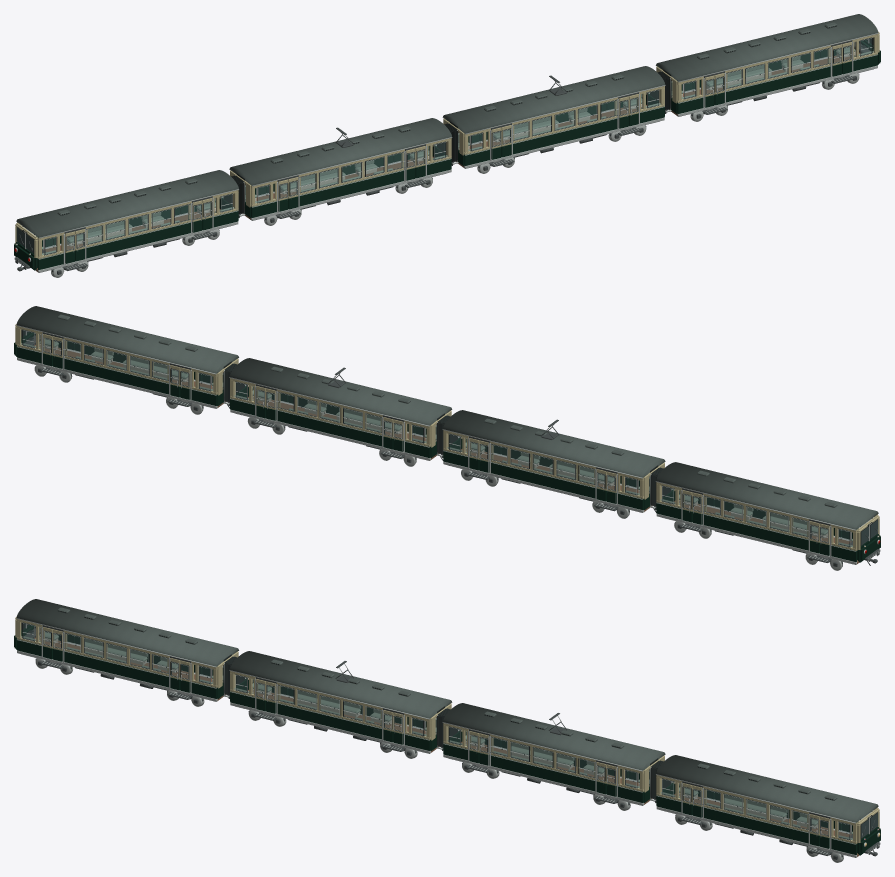
File: passenger-train.glb
The picture shows the model from 3 angles, top to bottom: view 1: azimuth 30°, elevation 25°; view 2: azimuth 150°, elevation 25°; view 3: azimuth 330°, elevation 25°; orthographic projection.
Parts seen in each view (by area): view 1: Coach_01_Static, Coach_04_Static, Coach_03_Static, Coach_02_Static; view 2: Coach_01_Static, Coach_04_Static, Coach_03_Static, Coach_02_Static; view 3: Coach_04_Static, Coach_01_Static, Coach_02_Static, Coach_03_Static.
Boxes of the visible parts, bbox=[...] form: Coach_01_Static: bbox=[14, 170, 239, 277]; Coach_04_Static: bbox=[655, 14, 880, 121]; Coach_03_Static: bbox=[442, 66, 666, 173]; Coach_02_Static: bbox=[229, 118, 452, 225]; Coach_01_Static: bbox=[655, 462, 880, 570]; Coach_04_Static: bbox=[14, 306, 239, 414]; Coach_03_Static: bbox=[228, 358, 452, 466]; Coach_02_Static: bbox=[442, 410, 665, 518]; Coach_04_Static: bbox=[655, 755, 880, 862]; Coach_01_Static: bbox=[14, 599, 239, 706]; Coach_02_Static: bbox=[228, 651, 452, 758]; Coach_03_Static: bbox=[442, 703, 665, 810].
Bounding box in the file's own units: 50.49 × 3.92 × 2.77.
13 materials, 6 textured.
